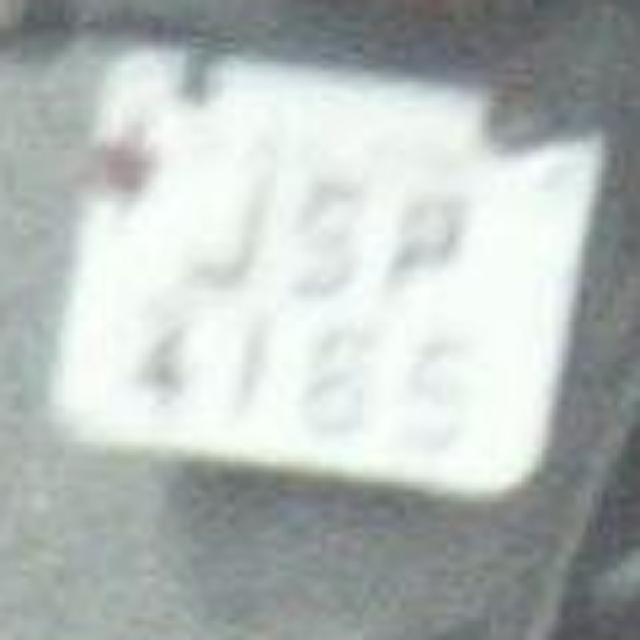1: (208, 296, 284, 432)
4: (112, 288, 212, 432)
5: (380, 312, 500, 456)
6: (284, 296, 391, 449)
J: (168, 148, 272, 292)
P: (376, 176, 484, 312)
